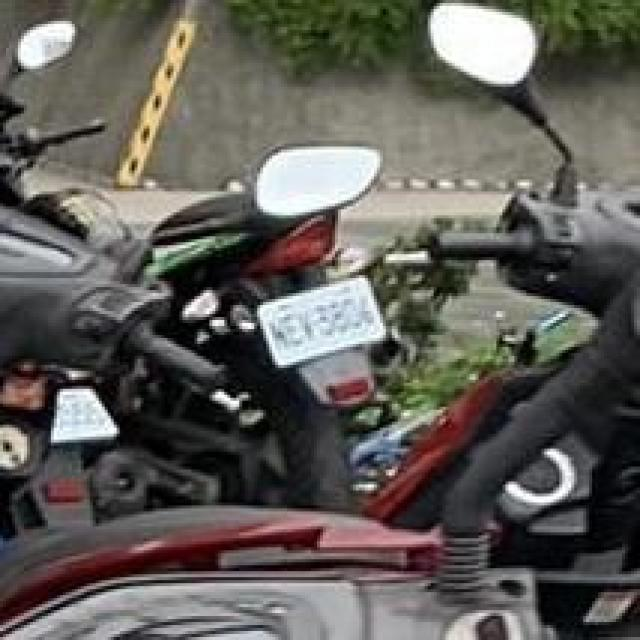W: (251, 272, 392, 371)
